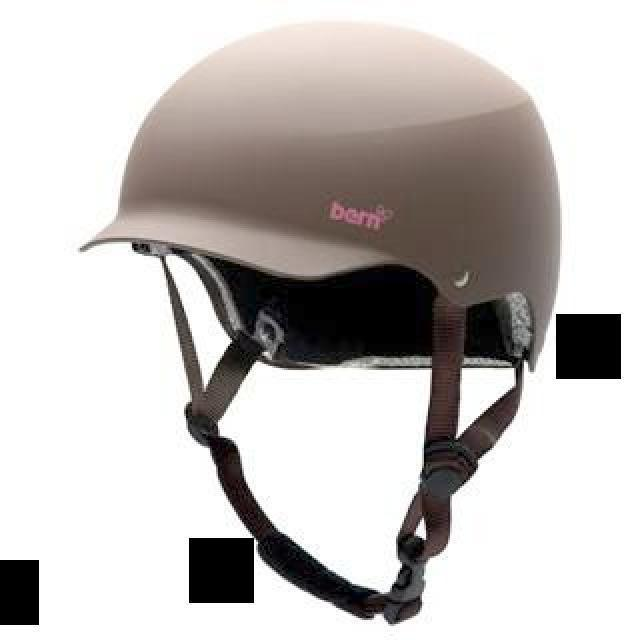helmet: (78, 18, 563, 623)
